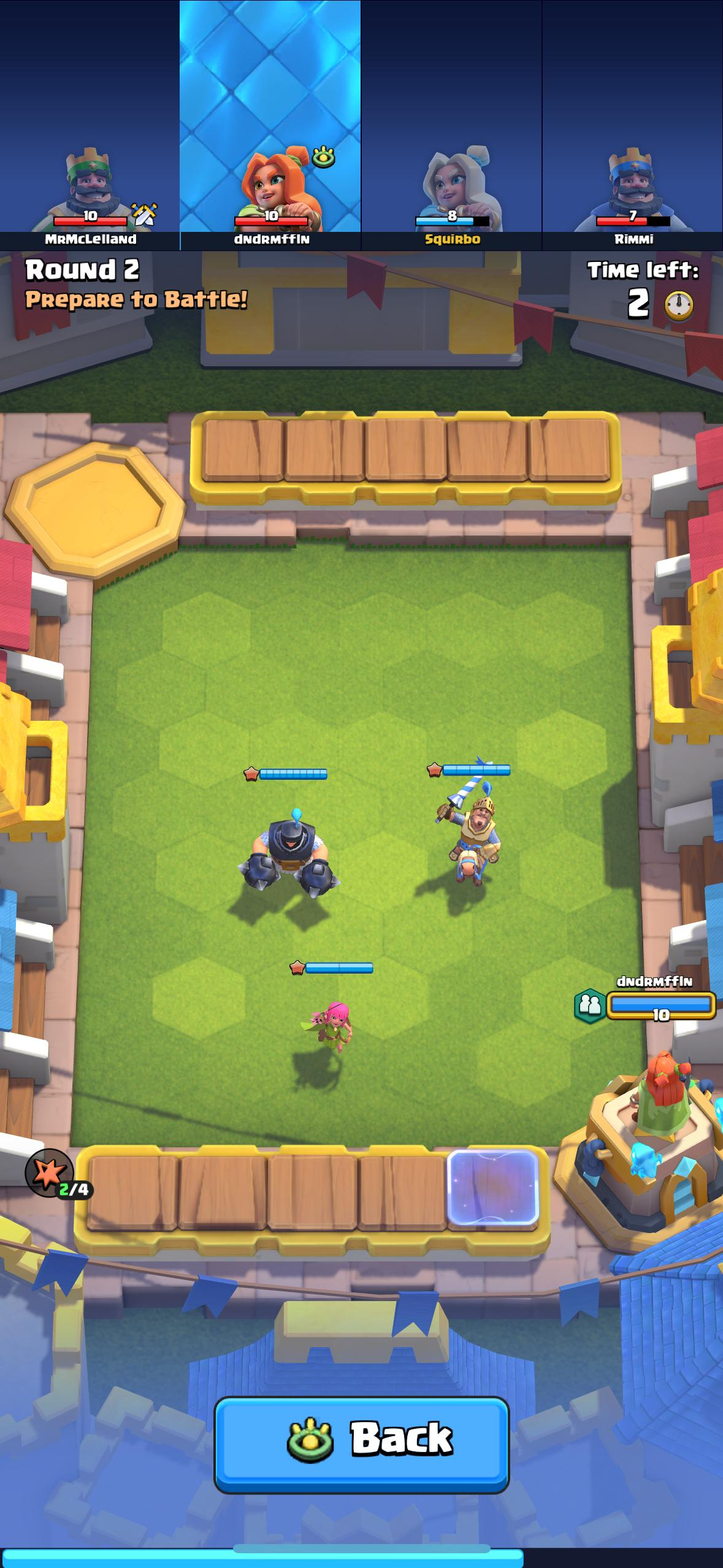archer: (304, 990, 353, 1063)
mega: (242, 801, 338, 901)
prince: (432, 774, 503, 888)
